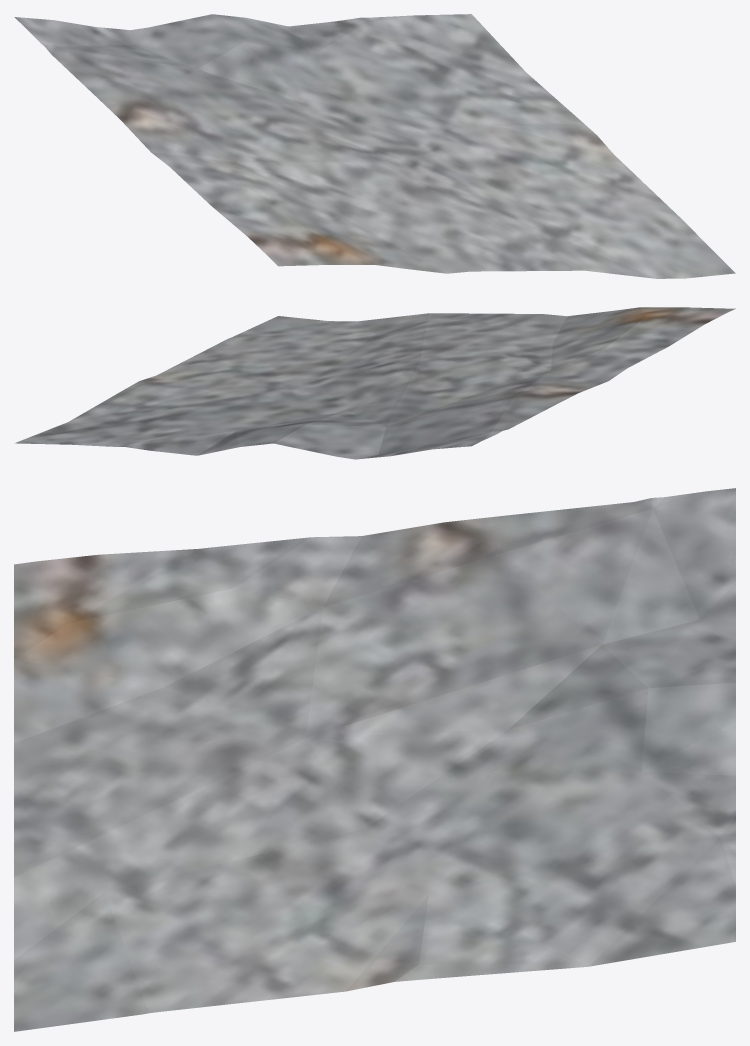
3 views of the same model, one above another, from view 1: azimuth 30°, elevation 25°; view 2: azimuth 150°, elevation 25°; view 3: azimuth 270°, elevation 25° (orthographic). The views are drawn at different scales.
Bounding box in the file's own units: 0.8374 × 0.3055 × 0.8373.
3 materials, 3 textured.
